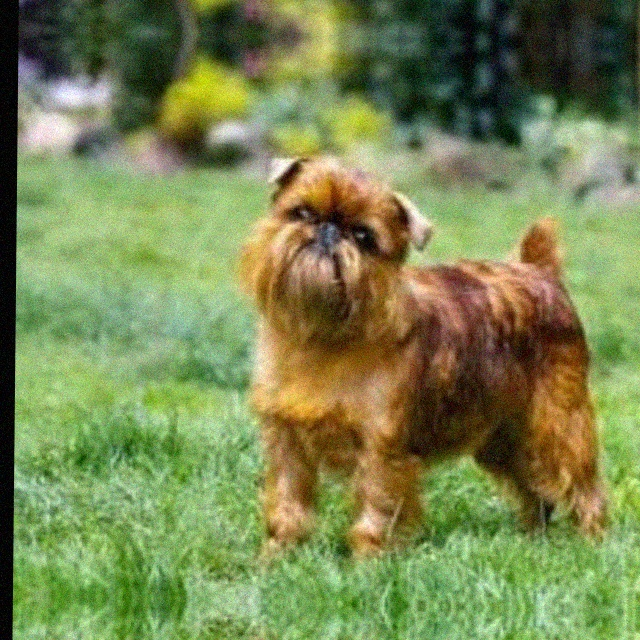dog: (226, 143, 611, 571)
